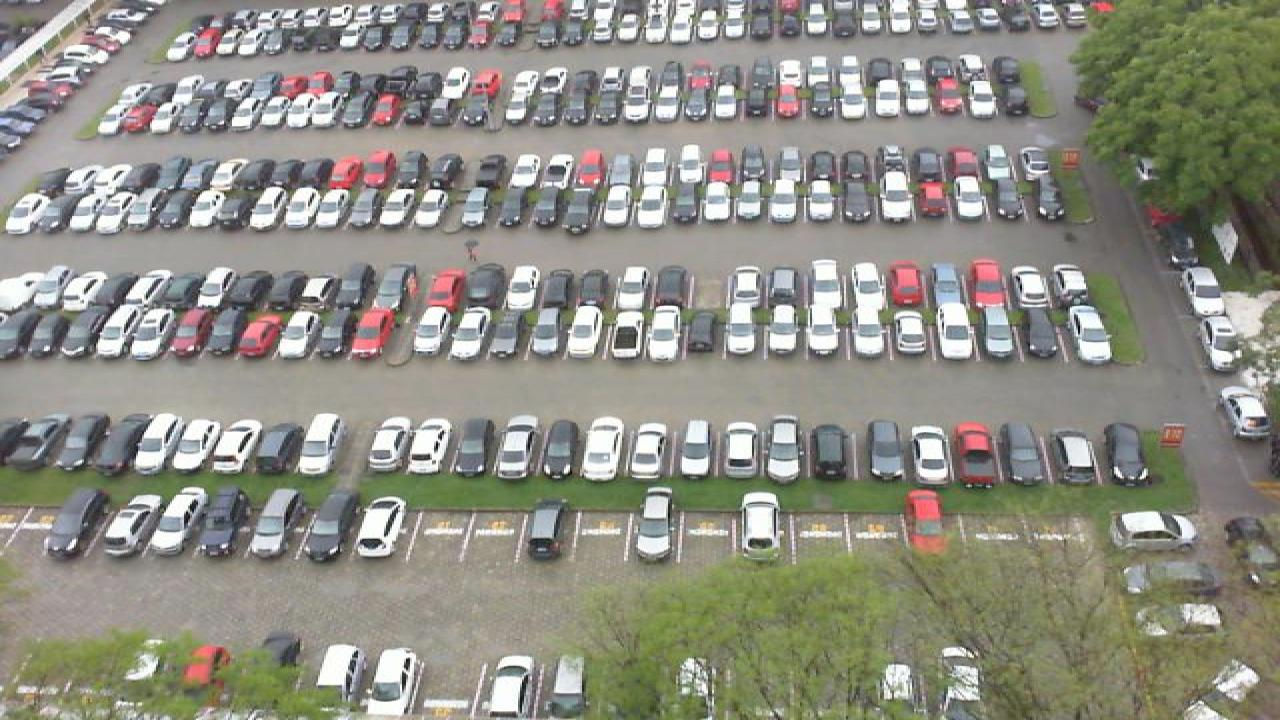Car: (160, 265, 238, 359), (20, 264, 94, 362), (124, 267, 200, 361), (232, 269, 308, 361), (348, 261, 418, 359), (310, 264, 382, 359), (198, 268, 272, 360), (88, 268, 162, 359), (54, 267, 126, 359), (272, 269, 344, 359), (444, 262, 510, 360), (480, 264, 542, 360), (404, 268, 468, 358), (1052, 262, 1102, 364), (1010, 264, 1060, 362), (0, 271, 54, 359), (602, 266, 652, 361), (562, 266, 612, 361), (646, 264, 694, 362), (522, 264, 570, 360), (928, 260, 974, 360), (886, 260, 932, 360), (970, 258, 1014, 361), (804, 258, 848, 360), (50, 488, 110, 562), (844, 261, 888, 360), (762, 264, 806, 362), (722, 264, 766, 360), (302, 488, 360, 560), (1110, 506, 1202, 550), (196, 486, 252, 558), (250, 487, 306, 558), (152, 486, 208, 557), (4, 415, 70, 473), (630, 487, 680, 563), (352, 495, 408, 561), (900, 487, 952, 557), (50, 412, 108, 474), (522, 496, 574, 564), (736, 489, 784, 562), (128, 413, 180, 476), (88, 413, 140, 476), (952, 420, 1000, 488), (100, 499, 156, 557), (864, 418, 912, 485), (578, 416, 626, 483), (1102, 422, 1152, 486), (490, 415, 540, 478), (446, 415, 496, 478), (204, 418, 260, 474), (1000, 423, 1048, 488), (364, 415, 416, 475), (1218, 386, 1274, 440), (1050, 427, 1102, 485), (624, 423, 674, 483), (404, 416, 454, 476), (908, 426, 956, 488), (294, 412, 342, 474), (672, 418, 718, 482), (166, 418, 220, 472), (536, 418, 582, 481), (762, 414, 804, 482), (250, 420, 302, 474), (720, 420, 762, 483), (810, 422, 854, 481), (1182, 264, 1232, 310), (1188, 302, 1248, 338)
